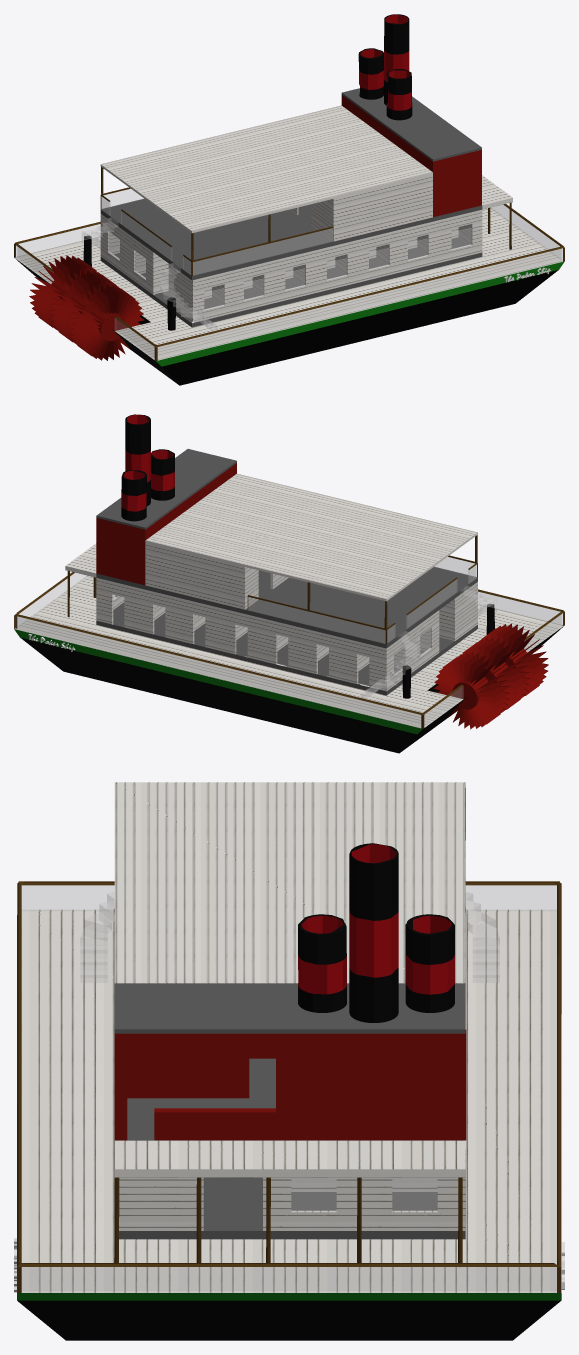
Rendered from Riverboat.glb.
3 views of the same model, one above another, from view 1: azimuth 30°, elevation 25°; view 2: azimuth 150°, elevation 25°; view 3: azimuth 270°, elevation 25° (orthographic). The views are drawn at different scales.
Visible parts, largest first — view 1: Text, Cube.007, Cube.001, 2nd Floor, Railings, Cube.005, Steam Stacks, Cube.004, Railings.001, Wheel.002, Cube.002, First Floor (+8 smaller); view 2: Text, Cube.007, Cube.001, 2nd Floor, Railings, Cube.005, Steam Stacks, Cube.004, Railings.001, First Floor, Wheel.001, Cube.002 (+7 smaller); view 3: Text, Cube.007, Cube.004, Railings, Steam Stacks, Cube.002, Cube, Cube.001, First Floor, 2nd Floor, Windows.001, Supports (+2 smaller).
Part boxes in pixels (x1,y1,x2,y2): Text: [15, 207, 564, 385]; Cube.007: [100, 105, 432, 233]; Cube.001: [100, 209, 482, 323]; 2nd Floor: [100, 198, 482, 280]; Railings: [14, 204, 564, 360]; Cube.005: [290, 174, 432, 241]; Steam Stacks: [358, 14, 412, 120]; Cube.004: [341, 94, 481, 217]; Railings.001: [100, 187, 333, 275]; Wheel.002: [68, 283, 144, 360]; Cube.002: [341, 88, 481, 161]; First Floor: [100, 237, 482, 327]; Text: [14, 575, 563, 753]; Cube.007: [145, 473, 477, 601]; Cube.001: [96, 578, 477, 691]; 2nd Floor: [96, 566, 477, 648]; Railings: [14, 572, 564, 728]; Cube.005: [145, 542, 288, 609]; Steam Stacks: [121, 414, 174, 521]; Cube.004: [96, 463, 236, 585]; Railings.001: [247, 555, 477, 644]; First Floor: [96, 602, 477, 695]; Wheel.001: [434, 652, 509, 729]; Cube.002: [96, 449, 236, 529]; Text: [14, 909, 564, 1340]; Cube.007: [114, 782, 465, 983]; Cube.004: [114, 1030, 466, 1140]; Railings: [17, 881, 561, 1292]; Steam Stacks: [298, 843, 454, 1022]; Cube.002: [114, 983, 465, 1033]; Cube: [114, 1140, 465, 1177]; Cube.001: [119, 1147, 465, 1230]; First Floor: [119, 1177, 465, 1239]; 2nd Floor: [115, 1058, 465, 1140]; Windows.001: [291, 1178, 437, 1211]; Supports: [114, 788, 465, 1262].
Size of the model in its own units: 32.61 by 18.24 by 18.51.
Materials: 11 (1 with a texture image).
